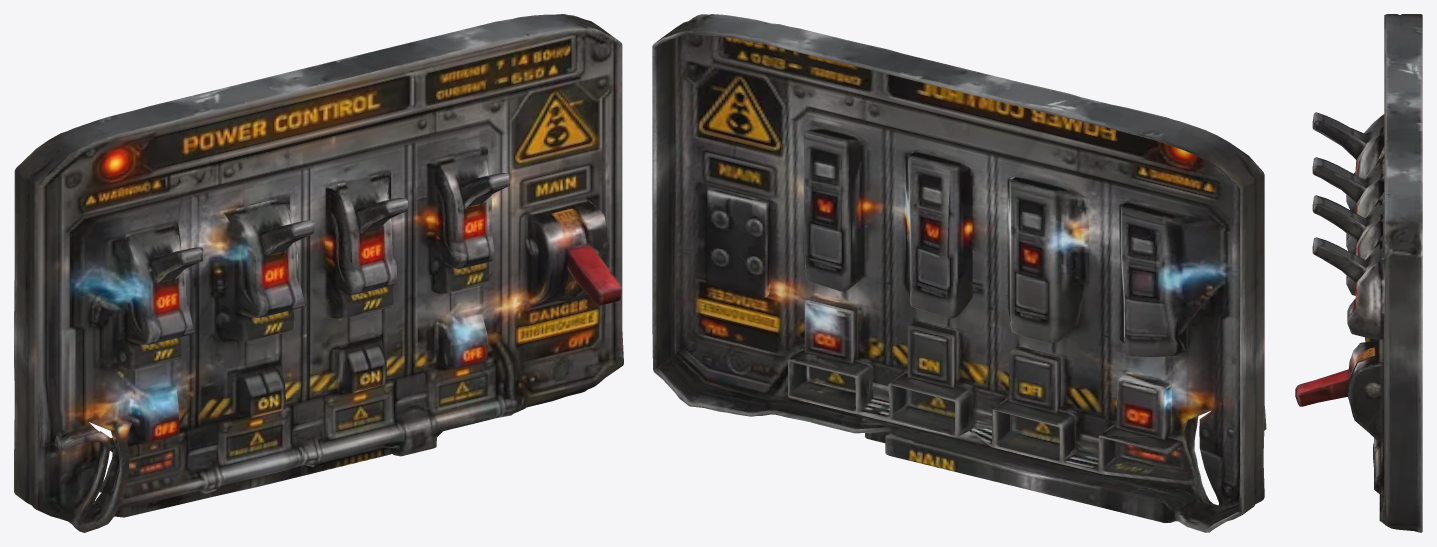
Rendered from zone-electrical.glb.
3 renders of one model, left to right at view 1: azimuth 30°, elevation 25°; view 2: azimuth 150°, elevation 25°; view 3: azimuth 270°, elevation 25°, orthographic. The views are drawn at different scales.
Bounding box in the file's own units: 1.91 × 1.21 × 0.4305.
1 material, 1 textured.
